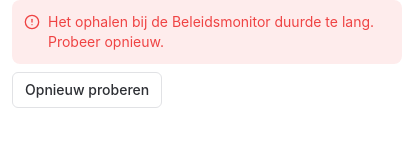
Test: BeleidDocumentenLijst › allows a real retry after a source error without showing empty success
Expected: the message "Het ophalen bij de Beleidsmonitor duurde te lang. Probeer opnieuw." is shown, [12,0,401,64]
What coordinates should you click on to do the following:
click the button "Opnieuw proberen"
I would click on:
 (87, 90)
Its box is [12,72,162,108].
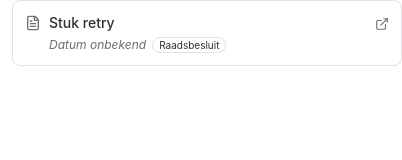
Expected: the text "Stuk retry" is shown, [49,14,115,31]
